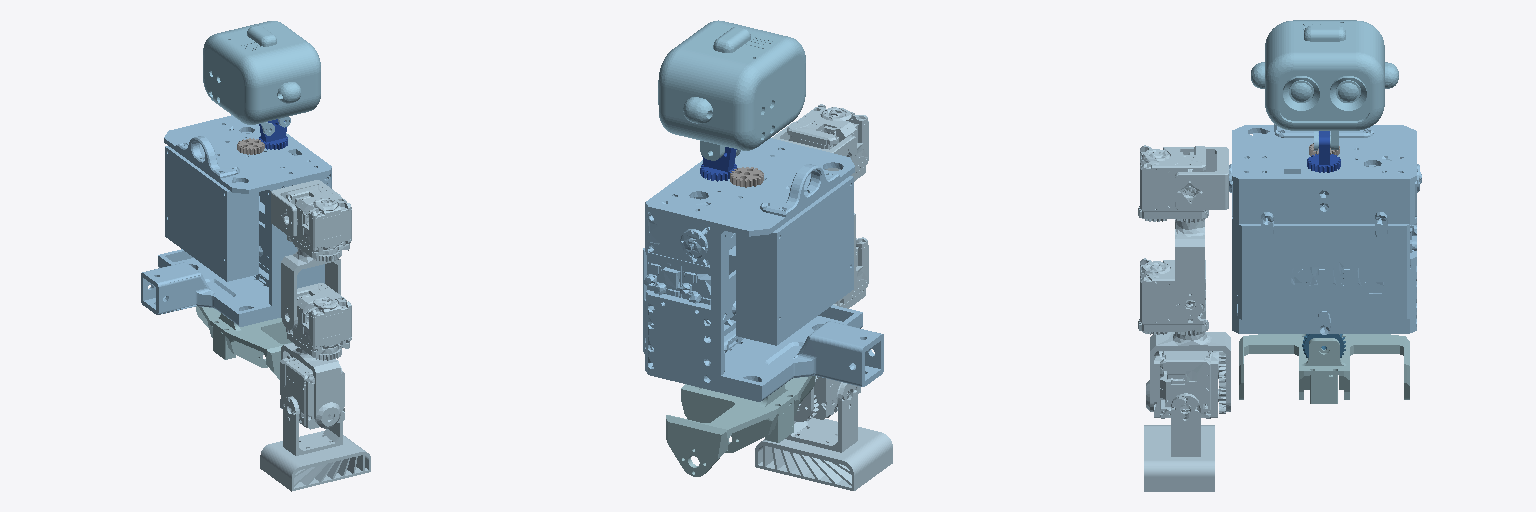
--- Render facts (derived) ---
The picture shows the robot from 3 angles, left to right: view 1: azimuth 30°, elevation 25°; view 2: azimuth 150°, elevation 25°; view 3: azimuth 270°, elevation 25°; orthographic projection.
Model toddlerbot with 17 links and 16 joints (16 revolute), rooted at torso, posed all joints at 0.
Links seen in each view (by area): view 1: torso, right_arm_umi, head, waist_link, neck_yaw_link_v2; view 2: torso, head, right_arm_umi, waist_link, neck_yaw_link_v2, spur_1m_20t; view 3: torso, right_arm_umi, head, waist_link, neck_yaw_link_v2.
Link boxes in pixels (x1,y1,x2,y2): torso: [141, 115, 331, 326]; right_arm_umi: [260, 180, 370, 491]; head: [203, 21, 320, 124]; waist_link: [196, 306, 292, 379]; neck_yaw_link_v2: [259, 119, 287, 149]; torso: [643, 138, 883, 401]; head: [658, 20, 805, 160]; right_arm_umi: [755, 104, 892, 490]; waist_link: [666, 376, 815, 476]; neck_yaw_link_v2: [700, 147, 736, 181]; spur_1m_20t: [730, 167, 763, 187]; torso: [1229, 124, 1421, 334]; right_arm_umi: [1138, 145, 1230, 491]; head: [1251, 20, 1398, 149]; waist_link: [1239, 334, 1409, 403]; neck_yaw_link_v2: [1307, 131, 1340, 172].
Bounding box of the posed robot: 0.141 × 0.1996 × 0.3463 m (x, y, z).
Meshes: 17 distinct files referenced, 14 mesh visuals loaded (14 binary STL); not drawn: 3 (reference not matched to a file when rendering).

robot.urdf — toddlerbot:
<?xml version="1.0" ?><robot name="toddlerbot">  
  <link name="torso">    
    <visual>      
      <origin xyz="0 0 0" rpy="0 -0 0"/>      
      <geometry>        
        <mesh filename="package:///meshes/torso_visual.stl"/>        
      </geometry>      
      <material name="torso_material">        
        <color rgba="0.63866204066417398 0.79042612983052995546 0.89591918647189450198 1.0"/>        
      </material>      
    </visual>    
    <collision>      
      <origin xyz="0 0 0" rpy="0 -0 0"/>      
      <geometry>        
        <mesh filename="package:///meshes/torso_collision.stl"/>        
      </geometry>      
    </collision>    
    <inertial>      
      <origin xyz="-0.0026180240206912603826 -0.0033389249991023252362 0.065426598309827305178" rpy="0 0 0"/>      
      <mass value="1.085065963101202513"/>      
      <inertia ixx="0.0028394422513802835238" ixy="7.2802503934375956997e-05" ixz="1.3076400897980156921e-05" iyy="0.002260906039368253042" iyz="-2.183962720868887802e-05" izz="0.0022996340769918456777"/>      
    </inertial>    
  </link>  

  <link name="spur_1m_20t">    
    <visual>      
      <origin xyz="0 0 0" rpy="0 -0 0"/>      
      <geometry>        
        <mesh filename="package:///meshes/spur_1m_20t_visual.stl"/>        
      </geometry>      
      <material name="spur_1m_20t_material">        
        <color rgba="0.64705882352941179736 0.64705882352941179736 0.64705882352941179736 1.0"/>        
      </material>      
    </visual>    
    <collision>      
      <origin xyz="0 0 0" rpy="0 -0 0"/>      
      <geometry>        
        <mesh filename="package:///meshes/spur_1m_20t_collision.stl"/>        
      </geometry>      
    </collision>    
    <inertial>      
      <origin xyz="-1.1300904133467477148e-18 -8.2138761651919509895e-18 0.0033842321054344710884" rpy="0 0 0"/>      
      <mass value="0.0015778025963746002049"/>      
      <inertia ixx="4.5874424196602111379e-08" ixy="3.1933561703873518534e-24" ixz="8.2808267371582993255e-38" iyy="4.5874424196602091527e-08" iyz="-6.0163727915893723463e-38" izz="8.1737050837173876176e-08"/>      
    </inertial>    
  </link>  

  <joint name="neck_yaw_drive" type="revolute">    
    <origin xyz="-0.0049999999999995195857 2.6218353247046111074e-18 0.12148651076281755112" rpy="6.9435866101192579278e-15 7.3280040413333374539e-15 -5.2566133713766224513e-15"/>    
    <parent link="torso"/>    
    <child link="spur_1m_20t"/>    
    <axis xyz="0 0 1"/>    
    <limit effort="1" velocity="20" lower="-2.8797932657906435416" upper="2.8797932657906435416"/>    
    <joint_properties friction="0.0"/>    
  </joint>  

  <link name="neck_yaw_link_v2">    
    <visual>      
      <origin xyz="0 0 0" rpy="0 -0 0"/>      
      <geometry>        
        <mesh filename="package:///meshes/neck_yaw_link_v2_visual.stl"/>        
      </geometry>      
      <material name="neck_yaw_link_v2_material">        
        <color rgba="0.2313725490196078538 0.38039215686274513439 0.7058823529411765163 1.0"/>        
      </material>      
    </visual>    
    <collision>      
      <origin xyz="0 0 0" rpy="0 -0 0"/>      
      <geometry>        
        <mesh filename="package:///meshes/neck_yaw_link_v2_collision.stl"/>        
      </geometry>      
    </collision>    
    <inertial>      
      <origin xyz="-1.1403990895039929665e-06 -1.1841855607304331475e-10 0.0082571849701004625122" rpy="0 0 0"/>      
      <mass value="0.0067298837334394097723"/>      
      <inertia ixx="5.226606762476552417e-07" ixy="-6.304640079419265662e-15" ixz="1.1949403084477248015e-09" iyy="6.1218519979554078817e-07" iyz="-2.6012808779597337169e-15" izz="2.8062851709981670442e-07"/>      
    </inertial>    
  </link>  

  <link name="head">    
    <visual>      
      <origin xyz="0 0 0" rpy="0 -0 0"/>      
      <geometry>        
        <mesh filename="package:///meshes/head_visual.stl"/>        
      </geometry>      
      <material name="head_material">        
        <color rgba="0.62873939703496795062 0.79364291305093481732 0.87330110949792516539 1.0"/>        
      </material>      
    </visual>    
    <collision>      
      <origin xyz="0 0 0" rpy="0 -0 0"/>      
      <geometry>        
        <mesh filename="package:///meshes/head_collision.stl"/>        
      </geometry>      
    </collision>    
    <inertial>      
      <origin xyz="-0.045316002313821032721 -0.011276855645191508418 -0.0010251236602536308116" rpy="0 0 0"/>      
      <mass value="0.13722101760550839411"/>      
      <inertia ixx="0.00011880807294044862146" ixy="1.1390016804761055477e-06" ixz="1.8378816154939927108e-06" iyy="0.00010489076115433052991" iyz="-9.2536559812163435491e-06" izz="9.1894624061611778995e-05"/>      
    </inertial>    
  </link>  

  <link name="motor_plate">    
    <visual>      
      <origin xyz="0 0 0" rpy="0 -0 0"/>      
      <geometry>        
        <mesh filename="package:///meshes/motor_plate_visual.stl"/>        
      </geometry>      
      <material name="motor_plate_material">        
        <color rgba="0.64705882352941179736 0.64705882352941179736 0.64705882352941179736 1.0"/>        
      </material>      
    </visual>    
    <collision>      
      <origin xyz="0 0 0" rpy="0 -0 0"/>      
      <geometry>        
        <mesh filename="package:///meshes/motor_plate_collision.stl"/>        
      </geometry>      
    </collision>    
    <inertial>      
      <origin xyz="0 3.4694469519536141888e-18 -0.0028281768943845490144" rpy="0 0 0"/>      
      <mass value="0.0016999999999999999053"/>      
      <inertia ixx="4.8050290733103730215e-08" ixy="1.0773753257370437902e-09" ixz="2.6292013878342271482e-36" iyy="5.1782428339099030199e-08" iyz="4.6279080697707239297e-37" izz="9.2194729037862196389e-08"/>      
    </inertial>    
  </link>  

  <link name="bearing_683">    
    <visual>      
      <origin xyz="0 0 0" rpy="0 -0 0"/>      
      <geometry>        
        <mesh filename="package:///meshes/bearing_683_visual.stl"/>        
      </geometry>      
      <material name="bearing_683_material">        
        <color rgba="0.64705882352941179736 0.64705882352941179736 0.64705882352941179736 1.0"/>        
      </material>      
    </visual>    
    <collision>      
      <origin xyz="0 0 0" rpy="0 -0 0"/>      
      <geometry>        
        <mesh filename="package:///meshes/bearing_683_collision.stl"/>        
      </geometry>      
    </collision>    
    <inertial>      
      <origin xyz="-2.7648254672676526986e-17 2.7997443358460509995e-17 -0.0015500000000000008129" rpy="0 0 0"/>      
      <mass value="0.00048694686130641793437"/>      
      <inertia ixx="2.1551456503319879113e-09" ixy="1.0805664552050303029e-25" ixz="2.7791788803624942178e-38" iyy="2.1551456503319883249e-09" iyz="-6.2270811565965561025e-39" izz="3.5303647444715305817e-09"/>      
    </inertial>    
  </link>  

  <joint name="neck_pitch_front_rev_2" type="revolute">    
    <origin xyz="-0.0019411428382689055461 -0.0072444436971680244153 -0.0055000000000000014155" rpy="1.648198112299273894e-14 -4.6631263956190005776e-15 0.8807659428774070598"/>    
    <parent link="motor_plate"/>    
    <child link="bearing_683"/>    
    <axis xyz="0 0 1"/>    
    <limit effort="1" velocity="20" lower="-6.283185307179586232" upper="6.283185307179586232"/>    
    <joint_properties friction="0.0"/>    
  </joint>  

  <link name="bearing_683_2">    
    <visual>      
      <origin xyz="0 0 0" rpy="0 -0 0"/>      
      <geometry>        
        <mesh filename="package:///meshes/bearing_683_2_visual.stl"/>        
      </geometry>      
      <material name="bearing_683_2_material">        
        <color rgba="0.64705882352941179736 0.64705882352941179736 0.64705882352941179736 1.0"/>        
      </material>      
    </visual>    
    <collision>      
      <origin xyz="0 0 0" rpy="0 -0 0"/>      
      <geometry>        
        <mesh filename="package:///meshes/bearing_683_2_collision.stl"/>        
      </geometry>      
    </collision>    
    <inertial>      
      <origin xyz="1.0732094295237706334e-19 2.4186774283160206952e-19 -0.0015499999999999999455" rpy="0 0 0"/>      
      <mass value="0.00048694686130641793437"/>      
      <inertia ixx="2.1551456503319887385e-09" ixy="2.2768440186723943194e-25" ixz="-2.7783146208504636862e-41" iyy="2.1551456503319874977e-09" iyz="-4.0130515075389140523e-40" izz="3.5303647444715305817e-09"/>      
    </inertial>    
  </link>  

  <joint name="neck_pitch_back_rev_2" type="revolute">    
    <origin xyz="0.0019411428382688777905 0.0072444436971680035986 -0.0055000000000000014155" rpy="-1.772972718293551218e-13 -8.9252052021485662993e-14 0.877871016585597852"/>    
    <parent link="motor_plate"/>    
    <child link="bearing_683_2"/>    
    <axis xyz="0 0 1"/>    
    <limit effort="1" velocity="20" lower="-6.283185307179586232" upper="6.283185307179586232"/>    
    <joint_properties friction="0.0"/>    
  </joint>  

  <joint name="neck_pitch_act" type="revolute">    
    <origin xyz="-0.03261569771856148714 -0.026999999999999829692 0.0025000000000000568642" rpy="-3.1415926535897500393 -1.9259241935317556699e-13 -3.1415926535897105154"/>    
    <parent link="head"/>    
    <child link="motor_plate"/>    
    <axis xyz="0 0 1"/>    
    <limit effort="1" velocity="20" lower="-1.3962634015954635824" upper="0.61086523819801530344"/>    
    <joint_properties friction="0.0"/>    
  </joint>  

  <joint name="neck_pitch" type="revolute">    
    <origin xyz="4.0939474033052647428e-16 0.0039999999999996652816 0.019399999999999681388" rpy="-1.570796326794896558 1.5671692223473558947 3.1415926535895866145"/>    
    <parent link="neck_yaw_link_v2"/>    
    <child link="head"/>    
    <axis xyz="0 0 1"/>    
    <limit effort="1" velocity="20" lower="-1.3962634015954635824" upper="0.61086523819801530344"/>    
    <joint_properties friction="0.0"/>    
  </joint>  

  <link name="neck_rod">    
    <visual>      
      <origin xyz="0 0 0" rpy="0 -0 0"/>      
      <geometry>        
        <mesh filename="package:///meshes/neck_rod_visual.stl"/>        
      </geometry>      
      <material name="neck_rod_material">        
        <color rgba="0.62051618944235187314 0.78640765248647570562 0.88594253031295011613 1.0"/>        
      </material>      
    </visual>    
    <collision>      
      <origin xyz="0 0 0" rpy="0 -0 0"/>      
      <geometry>        
        <mesh filename="package:///meshes/neck_rod_collision.stl"/>        
      </geometry>      
    </collision>    
    <inertial>      
      <origin xyz="0.017942953356017549843 -4.2302323058491907029e-05 -0.0016023848482654536388" rpy="0 0 0"/>      
      <mass value="0.0031629468613064174939"/>      
      <inertia ixx="1.6183187611801482051e-08" ixy="4.3686324078027123917e-10" ixz="5.409871828883835504e-10" iyy="7.9430220338146775594e-07" iyz="-1.2754318712098216996e-12" izz="8.0573905690504716438e-07"/>      
    </inertial>    
  </link>  

  <joint name="neck_pitch_front_rev_1" type="revolute">    
    <origin xyz="-0.0072444436971676028775 -0.0040000000000003348849 0.017458857161730803598" rpy="1.5707963267945912467 -0.88439304732486501148 -3.1415926535895128957"/>    
    <parent link="neck_yaw_link_v2"/>    
    <child link="neck_rod"/>    
    <axis xyz="0 0 1"/>    
    <limit effort="1" velocity="20" lower="-6.283185307179586232" upper="6.283185307179586232"/>    
    <joint_properties friction="0.0"/>    
  </joint>  

  <link name="neck_rod_2">    
    <visual>      
      <origin xyz="0 0 0" rpy="0 -0 0"/>      
      <geometry>        
        <mesh filename="package:///meshes/neck_rod_2_visual.stl"/>        
      </geometry>      
      <material name="neck_rod_2_material">        
        <color rgba="0.62051618944235187314 0.78640765248647570562 0.88594253031295011613 1.0"/>        
      </material>      
    </visual>    
    <collision>      
      <origin xyz="0 0 0" rpy="0 -0 0"/>      
      <geometry>        
        <mesh filename="package:///meshes/neck_rod_2_collision.stl"/>        
      </geometry>      
    </collision>    
    <inertial>      
      <origin xyz="0.017901072327987890831 4.2302323075698717279e-05 -0.0016023848482719094122" rpy="0 0 0"/>      
      <mass value="0.0031629468613064174939"/>      
      <inertia ixx="1.618318761180265003e-08" ixy="-4.3584354920108695193e-10" ixz="5.3972445329606849492e-10" iyy="7.9343818800635532239e-07" iyz="1.2754318723706440774e-12" izz="8.0487504152993547198e-07"/>      
    </inertial>    
  </link>  

  <joint name="neck_pitch_back_rev_1" type="revolute">    
    <origin xyz="0.0072444436971684372795 -0.0040000000000003444259 0.021341142838268642445" rpy="1.57079632679489678 -0.88149812103305569266 3.141592653589793116"/>    
    <parent link="neck_yaw_link_v2"/>    
    <child link="neck_rod_2"/>    
    <axis xyz="0 0 1"/>    
    <limit effort="1" velocity="20" lower="-6.283185307179586232" upper="6.283185307179586232"/>    
    <joint_properties friction="0.0"/>    
  </joint>  

  <joint name="neck_yaw_driven" type="revolute">    
    <origin xyz="0.016000000000000187683 3.3495693113774157688e-16 0.12248651076281769079" rpy="1.1355899249689346505e-28 4.0151578034893218507e-15 -8.6007558735577894134e-16"/>    
    <parent link="torso"/>    
    <child link="neck_yaw_link_v2"/>    
    <axis xyz="0 0 1"/>    
    <limit effort="1" velocity="20" lower="-2.6179938779914944114" upper="2.6179938779914944114"/>    
    <joint_properties friction="0.0"/>    
  </joint>  

  <link name="waist_gears">    
    <visual>      
      <origin xyz="0 0 0" rpy="0 -0 0"/>      
      <geometry>        
        <mesh filename="package:///meshes/waist_gears_visual.stl"/>        
      </geometry>      
      <material name="waist_gears_material">        
        <color rgba="0.29673072126509869584 0.50090014891145373532 0.63316042503557945498 1.0"/>        
      </material>      
    </visual>    
    <collision>      
      <origin xyz="0 0 0" rpy="0 -0 0"/>      
      <geometry>        
        <mesh filename="package:///meshes/waist_gears_collision.stl"/>        
      </geometry>      
    </collision>    
    <inertial>      
      <origin xyz="-2.908902430919231e-07 5.5035553754012024303e-08 -0.012592985430860473284" rpy="0 0 0"/>      
      <mass value="0.026337180140419177987"/>      
      <inertia ixx="1.5367047941033391468e-06" ixy="1.8828487086056562372e-11" ixz="4.0600521961735931123e-10" iyy="7.3024712275450283125e-06" iyz="3.2911737859007853936e-12" izz="6.9859065635059256703e-06"/>      
    </inertial>    
  </link>  

  <link name="waist_link">    
    <visual>      
      <origin xyz="0 0 0" rpy="0 -0 0"/>      
      <geometry>        
        <mesh filename="package:///meshes/waist_link_visual.stl"/>        
      </geometry>      
      <material name="waist_link_material">        
        <color rgba="0.64205964988973118768 0.77112878115803895618 0.80455743168009175026 1.0"/>        
      </material>      
    </visual>    
    <collision>      
      <origin xyz="0 0 0" rpy="0 -0 0"/>      
      <geometry>        
        <mesh filename="package:///meshes/waist_link_collision.stl"/>        
      </geometry>      
    </collision>    
    <inertial>      
      <origin xyz="-1.5259387594791803393e-17 -0.024647143936898239375 -0.024243097328499926824" rpy="0 0 0"/>      
      <mass value="0.10819999998618363979"/>      
      <inertia ixx="4.7479700735669831376e-05" ixy="-4.0569486732969518828e-20" ixz="-5.6250747312697810454e-09" iyy="9.6352172992785395161e-05" iyz="1.5514215856080582023e-06" izz="6.724924647302820465e-05"/>      
    </inertial>    
  </link>  

  <link name="spiral_bevel_1m_14t_30deg">    
    <visual>      
      <origin xyz="0 0 0" rpy="0 -0 0"/>      
      <geometry>        
        <mesh filename="package:///meshes/spiral_bevel_1m_14t_30deg_visual.stl"/>        
      </geometry>      
      <material name="spiral_bevel_1m_14t_30deg_material">        
        <color rgba="0.64705882352941179736 0.64705882352941179736 0.64705882352941179736 1.0"/>        
      </material>      
    </visual>    
    <collision>      
      <origin xyz="0 0 0" rpy="0 -0 0"/>      
      <geometry>        
        <mesh filename="package:///meshes/spiral_bevel_1m_14t_30deg_collision.stl"/>        
      </geometry>      
    </collision>    
    <inertial>      
      <origin xyz="7.4971447279470481499e-10 7.1802237549753455959e-10 0.0066868955018979121113" rpy="0 0 0"/>      
      <mass value="0.00073261524436595492574"/>      
      <inertia ixx="1.3495056019478195011e-08" ixy="4.0596681656909248509e-17" ixz="8.5992550180286643448e-16" iyy="1.3495056150237195634e-08" iyz="-6.7913008238911449477e-16" izz="1.4355986549816401791e-08"/>      
    </inertial>    
  </link>  

  <joint name="waist_act_1" type="revolute">    
    <origin xyz="1.5779046203862292755e-18 -0.019600000000000009776 -0.012750000000000000916" rpy="1.570796326794896336 4.5657245710443242119e-14 3.1415926535897775729"/>    
    <parent link="waist_link"/>    
    <child link="spiral_bevel_1m_14t_30deg"/>    
    <axis xyz="0 0 1"/>    
    <limit effort="1" velocity="20" lower="-4.6774823953448034786" upper="4.6774823953448034786"/>    
    <joint_properties friction="0.0"/>    
  </joint>  

  <link name="spiral_bevel_1m_14t_30deg_2">    
    <visual>      
      <origin xyz="0 0 0" rpy="0 -0 0"/>      
      <geometry>        
        <mesh filename="package:///meshes/spiral_bevel_1m_14t_30deg_2_visual.stl"/>        
      </geometry>      
      <material name="spiral_bevel_1m_14t_30deg_2_material">        
        <color rgba="0.64705882352941179736 0.64705882352941179736 0.64705882352941179736 1.0"/>        
      </material>      
    </visual>    
    <collision>      
      <origin xyz="0 0 0" rpy="0 -0 0"/>      
      <geometry>        
        <mesh filename="package:///meshes/spiral_bevel_1m_14t_30deg_2_collision.stl"/>        
      </geometry>      
    </collision>    
    <inertial>      
      <origin xyz="3.6393116992217144912e-10 -9.7220472557862924745e-10 -0.0066868955018979155808" rpy="0 0 0"/>      
      <mass value="0.00073261524436595492574"/>      
      <inertia ixx="1.3495056012354477525e-08" ixy="2.5804135492145296637e-17" ixz="-1.0694296052499994646e-15" iyy="1.3495056157360913119e-08" iyz="-2.3876736942924337051e-16" izz="1.4355986549816401791e-08"/>      
    </inertial>    
  </link>  

  <joint name="waist_act_2" type="revolute">    
    <origin xyz="-4.2424946903466443955e-18 -0.019600000000000016714 -0.03275000000000001521" rpy="-1.570796326794896558 4.4675706846037577046e-14 3.1415926535897922278"/>    
    <parent link="waist_link"/>    
    <child link="spiral_bevel_1m_14t_30deg_2"/>    
    <axis xyz="0 0 1"/>    
    <limit effort="1" velocity="20" lower="-4.6774823953448034786" upper="4.6774823953448034786"/>    
    <joint_properties friction="0.0"/>    
  </joint>  

  <link name="left_leg_reorder">    
    <visual>      
      <origin xyz="0 0 0" rpy="0 -0 0"/>      
      <geometry>        
        <mesh filename="package:///meshes/left_leg_reorder_visual.stl"/>        
      </geometry>      
      <material name="left_leg_reorder_material">        
        <color rgba="0.67765739213933939844 0.6658624459822587438 0.504068577532996831 1.0"/>        
      </material>      
    </visual>    
    <collision>      
      <origin xyz="0 0 0" rpy="0 -0 0"/>      
      <geometry>        
        <mesh filename="package:///meshes/left_leg_reorder_collision.stl"/>        
      </geometry>      
    </collision>    
    <inertial>      
      <origin xyz="-0.1407345823471485291 0.0076225130777407505006 0.017743477983773018464" rpy="0 0 0"/>      
      <mass value="0.53612162963388487746"/>      
      <inertia ixx="0.00027529016776491602907" ixy="0.00013178477576624198658" ixz="4.1972332795057174827e-05" iyy="0.0047005740080786929946" iyz="3.5766558875068244495e-06" izz="0.0048544715650790364742"/>      
    </inertial>    
  </link>  

  <joint name="left_hip_pitch" type="revolute">    
    <origin xyz="0.056000000000000001166 -0.040099999999999996758 -0.022750000000000002859" rpy="-1.570796326794896558 1.184178074896365092e-14 1.5707963267948958919"/>    
    <parent link="waist_link"/>    
    <child link="left_leg_reorder"/>    
    <axis xyz="0 0 1"/>    
    <limit effort="1" velocity="20" lower="-1.570796326794896558" upper="2.356194490192344837"/>    
    <joint_properties friction="0.0"/>    
  </joint>  

  <link name="right_leg_reorder">    
    <visual>      
      <origin xyz="0 0 0" rpy="0 -0 0"/>      
      <geometry>        
        <mesh filename="package:///meshes/right_leg_reorder_visual.stl"/>        
      </geometry>      
      <material name="right_leg_reorder_material">        
        <color rgba="0.67801411763171837155 0.66502258610086673052 0.50162016666551234589 1.0"/>        
      </material>      
    </visual>    
    <collision>      
      <origin xyz="0 0 0" rpy="0 -0 0"/>      
      <geometry>        
        <mesh filename="package:///meshes/right_leg_reorder_collision.stl"/>        
      </geometry>      
    </collision>    
    <inertial>      
      <origin xyz="-0.14090597377937996715 -0.0074809587373591175663 0.017759864717391073835" rpy="0 0 0"/>      
      <mass value="0.53305320559212687748"/>      
      <inertia ixx="0.00027583353613358903506" ixy="-0.00014442088851172410501" ixz="4.1713197394732468698e-05" iyy="0.0046962475165696123541" iyz="-4.9420066650959334752e-06" izz="0.0048511999102587317206"/>      
    </inertial>    
  </link>  

  <joint name="right_hip_pitch" type="revolute">    
    <origin xyz="-0.056000000000000008105 -0.040100000000000010636 -0.022750000000000002859" rpy="1.57079632679489678 -3.5857808115535774538e-14 1.5707963267948972241"/>    
    <parent link="waist_link"/>    
    <child link="right_leg_reorder"/>    
    <axis xyz="0 0 1"/>    
    <limit effort="1" velocity="20" lower="-2.356194490192344837" upper="1.570796326794896558"/>    
    <joint_properties friction="0.0"/>    
  </joint>  

  <joint name="waist_roll" type="revolute">    
    <origin xyz="-0.022707865260692374626 -6.1958282368095533642e-18 -0.01399999999999982335" rpy="1.5707963267948978903 -1.9153977176001457857e-13 -1.570796326794896336"/>    
    <parent link="waist_gears"/>    
    <child link="waist_link"/>    
    <axis xyz="0 0 1"/>    
    <limit effort="1" velocity="20" lower="-0.52359877559829881566" upper="0.52359877559829881566"/>    
    <joint_properties friction="0.0"/>    
  </joint>  

  <joint name="waist_yaw" type="revolute">    
    <origin xyz="0 3.9443045261050590271e-31 0" rpy="-6.9406589306071306764e-17 -4.2741086826404963114e-15 -3.1415926535897500393"/>    
    <parent link="torso"/>    
    <child link="waist_gears"/>    
    <axis xyz="0 0 1"/>    
    <limit effort="1" velocity="20" lower="-1.570796326794896558" upper="1.570796326794896558"/>    
    <joint_properties friction="0.0"/>    
  </joint>  

  <link name="left_arm_umi">    
    <visual>      
      <origin xyz="0 0 0" rpy="0 -0 0"/>      
      <geometry>        
        <mesh filename="package:///meshes/left_arm_umi_visual.stl"/>        
      </geometry>      
      <material name="left_arm_umi_material">        
        <color rgba="0.72341525389597438611 0.82443744477834624007 0.88223563844125418854 1.0"/>        
      </material>      
    </visual>    
    <collision>      
      <origin xyz="0 0 0" rpy="0 -0 0"/>      
      <geometry>        
        <mesh filename="package:///meshes/left_arm_umi_collision.stl"/>        
      </geometry>      
    </collision>    
    <inertial>      
      <origin xyz="-0.00016036435971279120859 0.0950832077582474261 0.033940840890401745289" rpy="0 0 0"/>      
      <mass value="0.45670014698257832553"/>      
      <inertia ixx="0.0023660873890199228368" ixy="-7.3963929044762515981e-06" ixz="1.2562640550547329328e-07" iyy="0.00016046488915594692322" iyz="8.7828546788970587281e-05" izz="0.002333550199375338495"/>      
    </inertial>    
  </link>  

  <joint name="left_sho_pitch" type="revolute">    
    <origin xyz="-0.0035000000000003916867 0.067000000000001030953 0.10423651076281714722" rpy="-1.5707963267949094366 -4.1189274213593181432e-14 3.6803893266323825719e-14"/>    
    <parent link="torso"/>    
    <child link="left_arm_umi"/>    
    <axis xyz="0 0 1"/>    
    <limit effort="1" velocity="20" lower="-3.141592653589793116" upper="1.570796326794896558"/>    
    <joint_properties friction="0.0"/>    
  </joint>  

  <link name="right_arm_umi">    
    <visual>      
      <origin xyz="0 0 0" rpy="0 -0 0"/>      
      <geometry>        
        <mesh filename="package:///meshes/right_arm_umi_visual.stl"/>        
      </geometry>      
      <material name="right_arm_umi_material">        
        <color rgba="0.72341525389597460816 0.82443744477834646212 0.88223563844125429956 1.0"/>        
      </material>      
    </visual>    
    <collision>      
      <origin xyz="0 0 0" rpy="0 -0 0"/>      
      <geometry>        
        <mesh filename="package:///meshes/right_arm_umi_collision.stl"/>        
      </geometry>      
    </collision>    
    <inertial>      
      <origin xyz="-7.160322257700357958e-05 0.095083207758232063389 0.033940840890699264243" rpy="0 0 0"/>      
      <mass value="0.45670014698257821451"/>      
      <inertia ixx="0.0023660873890183520447" ixy="-1.2149368780261626376e-05" ixz="9.4880455661499415657e-08" iyy="0.00016047429247689407169" iyz="8.7828546774948004273e-05" izz="0.0023335596026966879367"/>      
    </inertial>    
  </link>  

  <joint name="right_sho_pitch" type="revolute">    
    <origin xyz="-0.003499999999998670841 -0.067000000000001086464 0.10423651076281725825" rpy="-1.5707963267948874542 3.4821687755471215053e-14 -3.1415926535897615857"/>    
    <parent link="torso"/>    
    <child link="right_arm_umi"/>    
    <axis xyz="0 0 1"/>    
    <limit effort="1" velocity="20" lower="-1.570796326794896558" upper="3.141592653589793116"/>    
    <joint_properties friction="0.0"/>    
  </joint>  


</robot>
